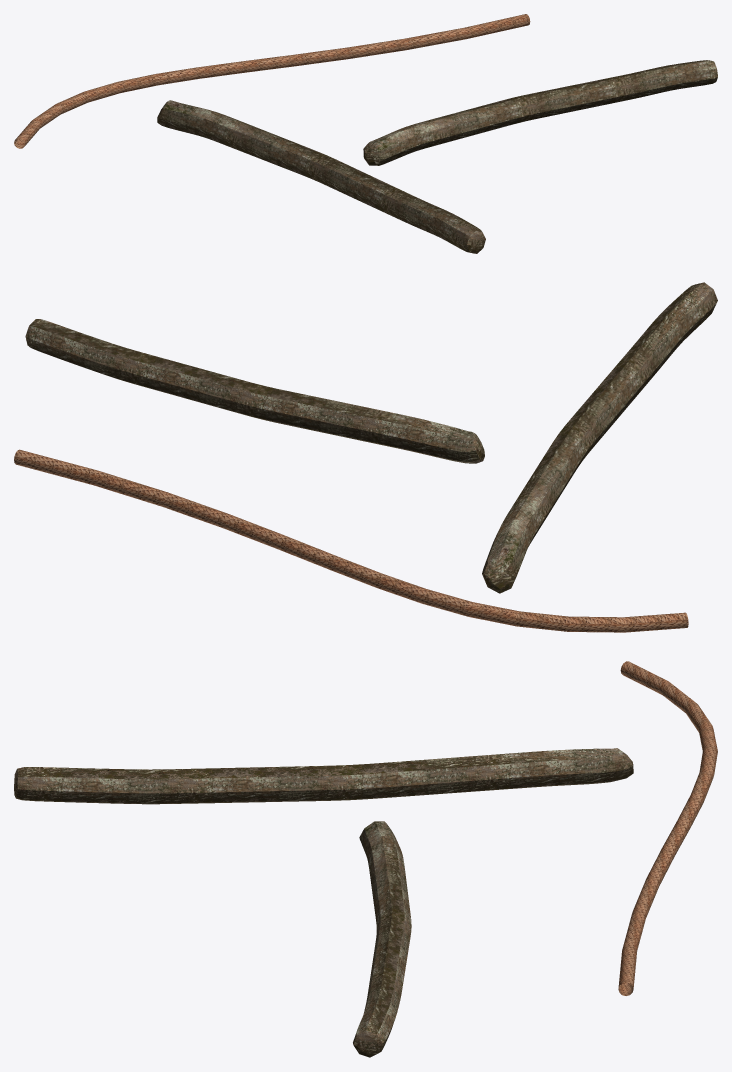
Rendered from tumbadesarmada 1.fbx.
3 views of the same model, one above another, from view 1: azimuth 30°, elevation 25°; view 2: azimuth 150°, elevation 25°; view 3: azimuth 270°, elevation 25° (orthographic). The views are drawn at different scales.
Visible parts, largest first — view 1: Cylinder, Cylinder.001, BézierCurve.001; view 2: Cylinder.001, Cylinder, BézierCurve.001; view 3: Cylinder, Cylinder.001, BézierCurve.001.
Part boxes in pixels (left/top/right/bottom): Cylinder: left=157, top=100, right=485, bottom=253; Cylinder.001: left=363, top=60, right=717, bottom=165; BézierCurve.001: left=14, top=14, right=530, bottom=148; Cylinder.001: left=25, top=319, right=484, bottom=463; Cylinder: left=482, top=282, right=717, bottom=593; BézierCurve.001: left=14, top=449, right=688, bottom=632; Cylinder: left=14, top=748, right=633, bottom=804; Cylinder.001: left=353, top=821, right=411, bottom=1057; BézierCurve.001: left=618, top=661, right=717, bottom=995.
Size of the model in its own units: 118 by 8.98 by 92.55.
Materials: 3 (3 with a texture image).
